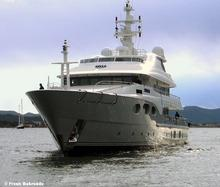yacht: (24, 1, 191, 155)
